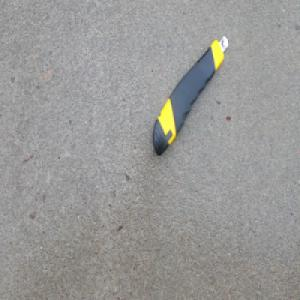Cutter: (150, 33, 228, 156)
